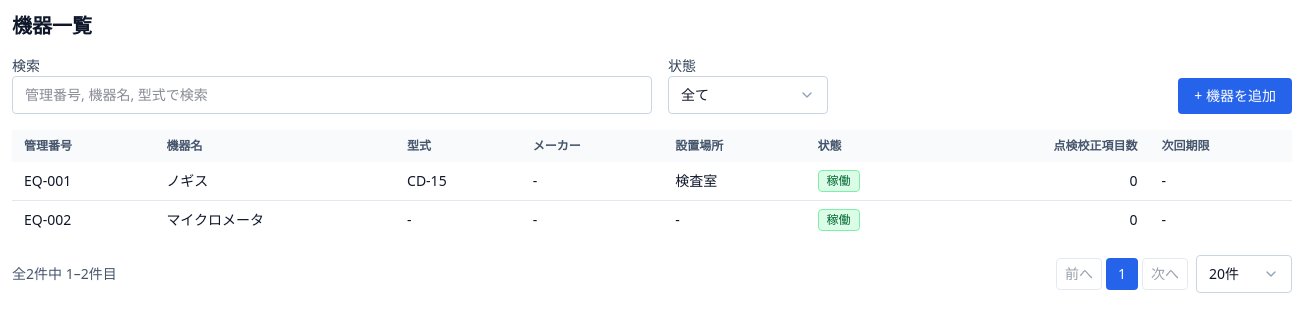
Test: EquipmentList: 検索 › managementNo/name/modelの部分一致(大文字小文字無視)で絞り込む
In the field labelled "検索": (332,95) [12,76,652,114], type "cd-15"
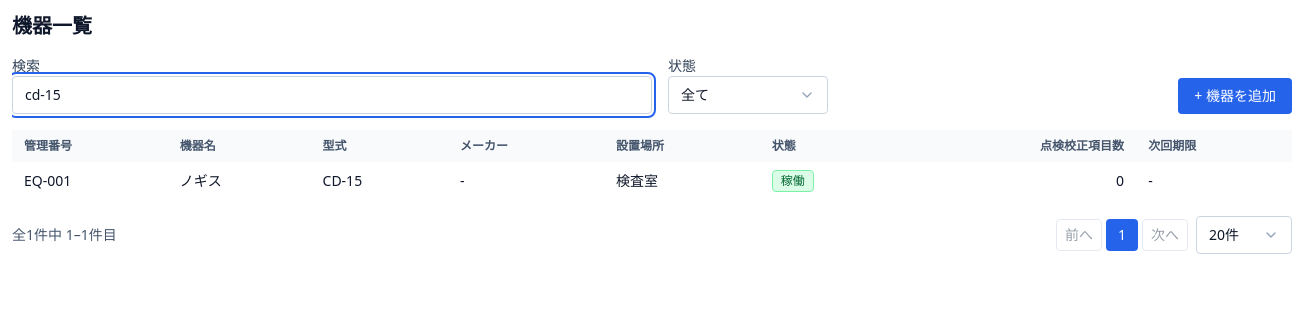
Check: the text "EQ-001" is shown, box [24,171,71,190]
Check: the text "EQ-002" is gone
